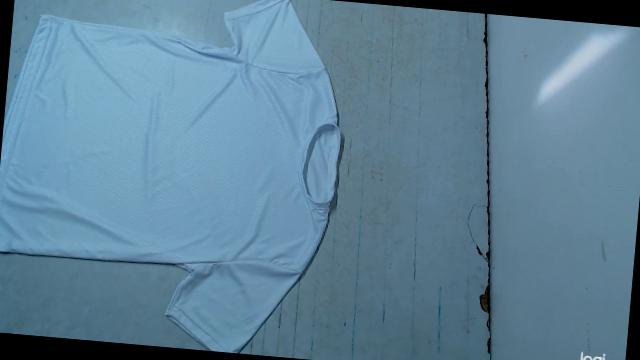new-garment: (0, 0, 340, 353)
